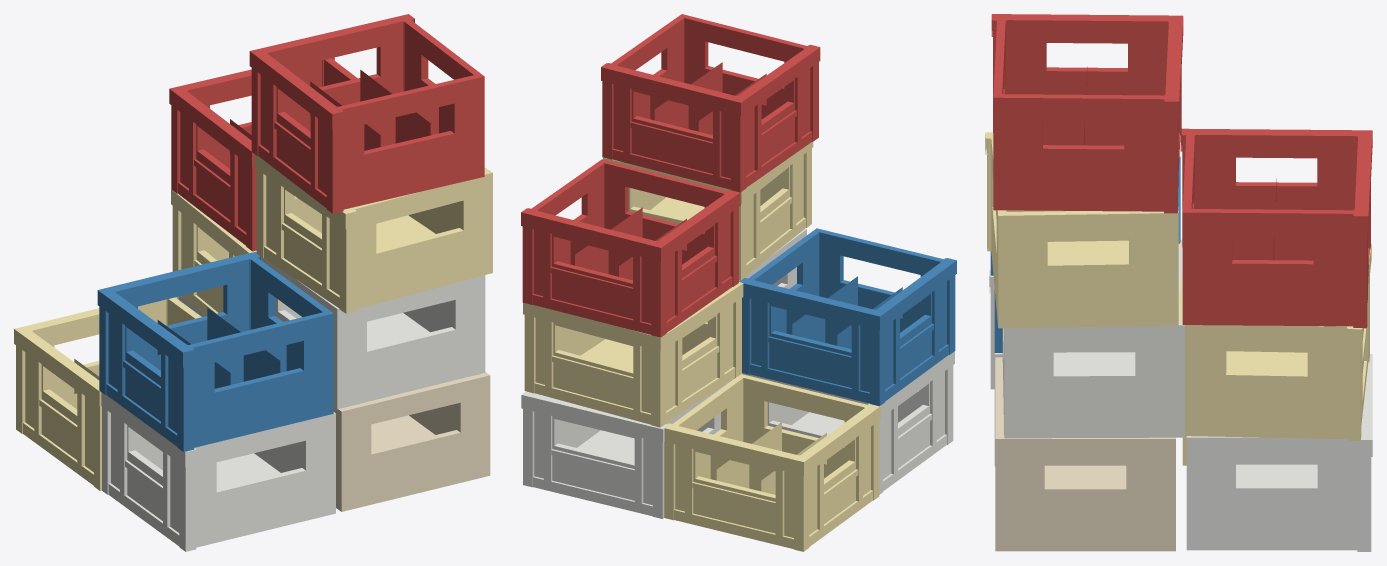
The model's file is Prop_CrateStack_A.fbx.
3 views of the same model, side by side, from view 1: azimuth 30°, elevation 25°; view 2: azimuth 150°, elevation 25°; view 3: azimuth 270°, elevation 25° (orthographic). The views are drawn at different scales.
Visible parts, largest first — view 1: Prop_CrateStack_A; view 2: Prop_CrateStack_A; view 3: Prop_CrateStack_A.
Part boxes in pixels (<box>): Prop_CrateStack_A: <box>14,14,492,551</box>; Prop_CrateStack_A: <box>521,14,956,551</box>; Prop_CrateStack_A: <box>985,14,1372,551</box>.
Size of the model in its own units: 1.64 by 2 by 1.56.
